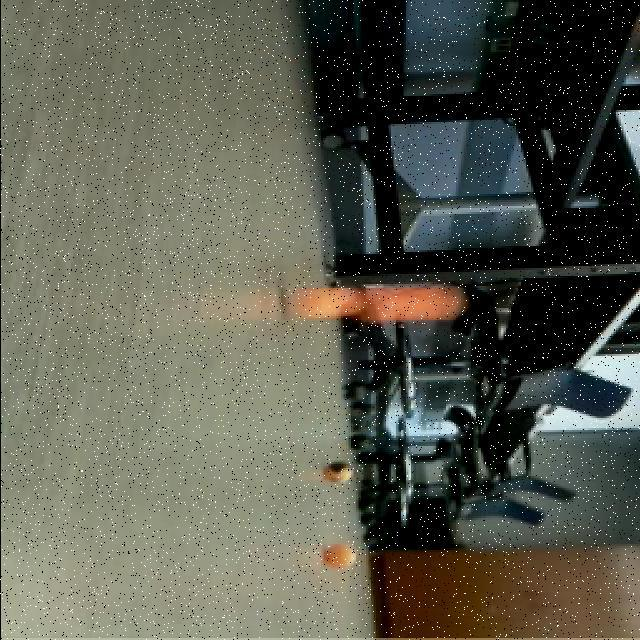ping-pong-ball: (284, 284, 350, 328), (318, 544, 362, 574), (314, 458, 354, 490)
